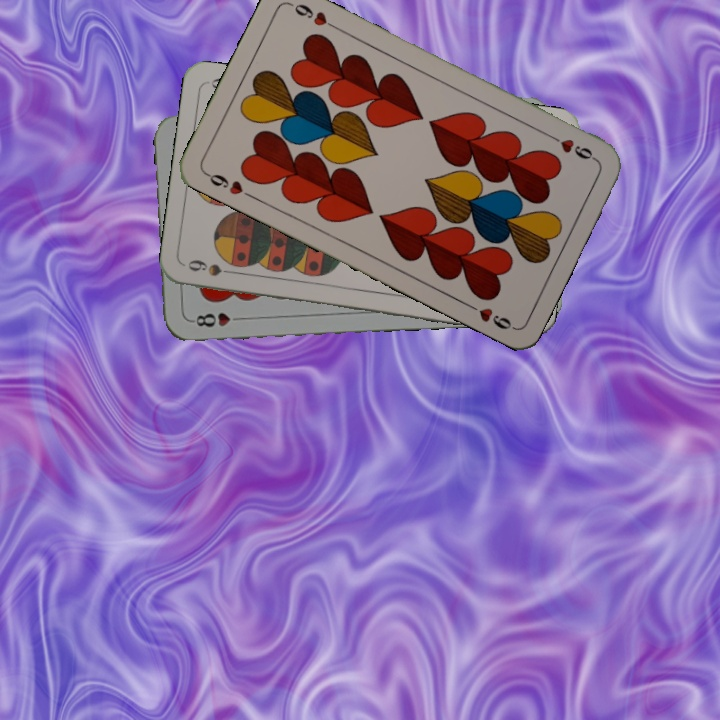H8: (187, 308, 247, 329)
H9: (544, 130, 599, 164), (201, 168, 256, 201)
S9: (184, 255, 242, 279)
